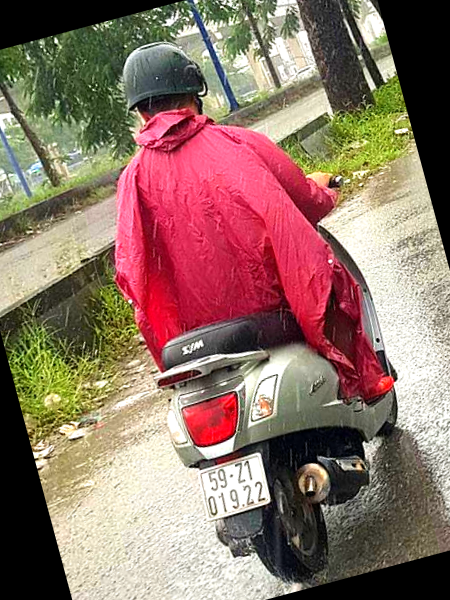number: (199, 457, 271, 519)
